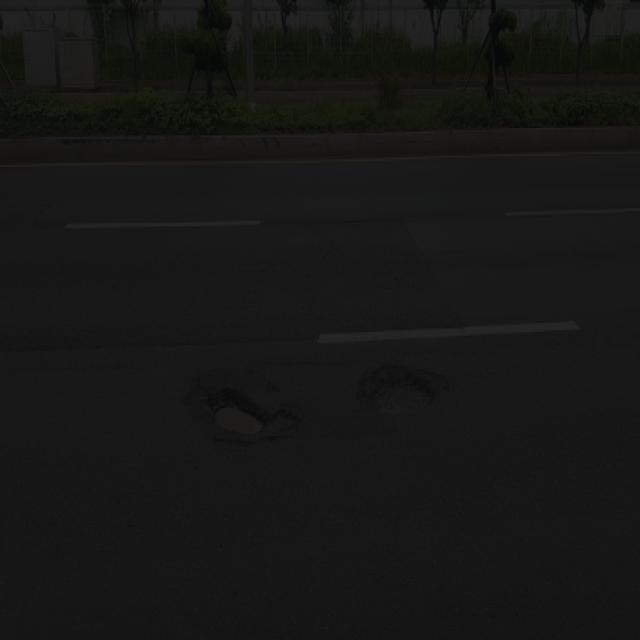pothole: (203, 352, 277, 472), (354, 348, 445, 437)
